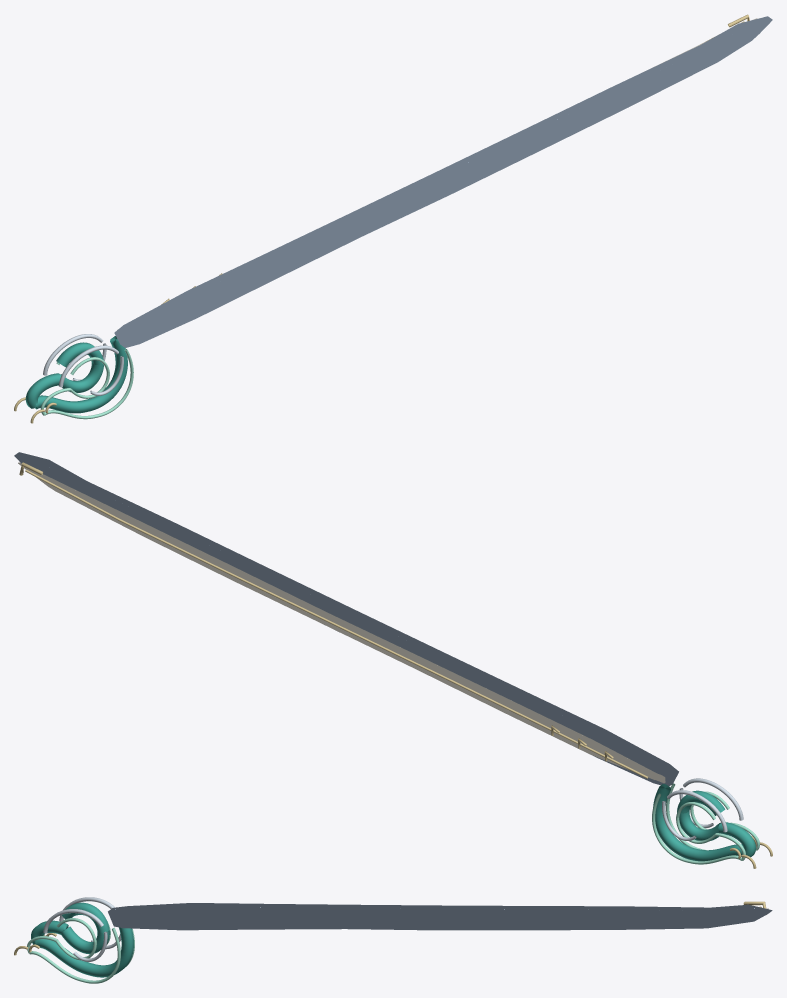
Rendered from glint_of_clouds_scabbard.obj.
3 renders of one model, top to bottom at view 1: azimuth 30°, elevation 25°; view 2: azimuth 150°, elevation 25°; view 3: azimuth 330°, elevation 25°, orthographic.
Visible parts, largest first — view 1: glint_of_clouds_scabbard; view 2: glint_of_clouds_scabbard; view 3: glint_of_clouds_scabbard.
Boxes of the visible parts, left/top/right/bottom form: glint_of_clouds_scabbard: left=14, top=14, right=772, bottom=423; glint_of_clouds_scabbard: left=14, top=452, right=772, bottom=868; glint_of_clouds_scabbard: left=14, top=897, right=772, bottom=983.
Size of the model in its own units: 1.28 by 0.3817 by 0.0572.
